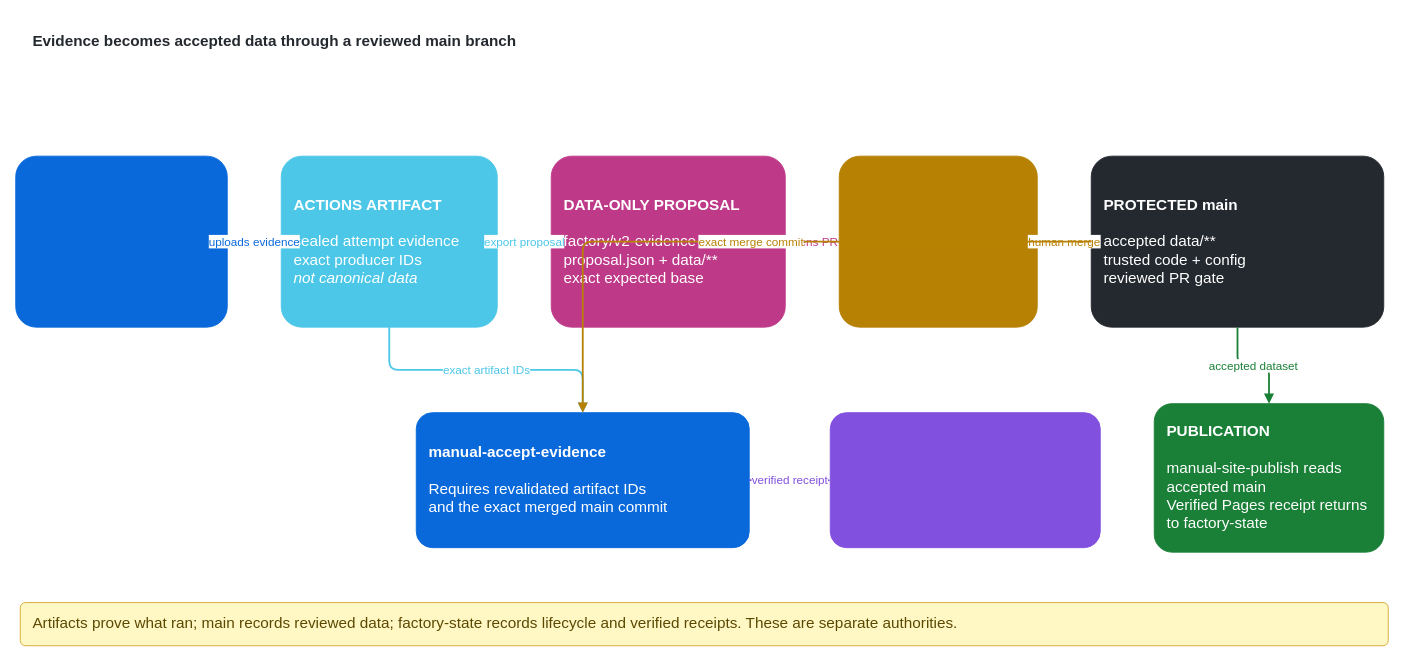
Some shapes in this 1404 by 662 pixel diagram are drawn without their labels. The centre of each missing label's shape, as x and y in pixels:
"factory-state Exact acceptance receipt Lifecycle handoff" goes at (964,480).
"HUMAN REVIEW Pull request required checks review and merge" goes at (937,241).
"WORKFLOW manual-worker trusted seal after compute" goes at (121,241).
